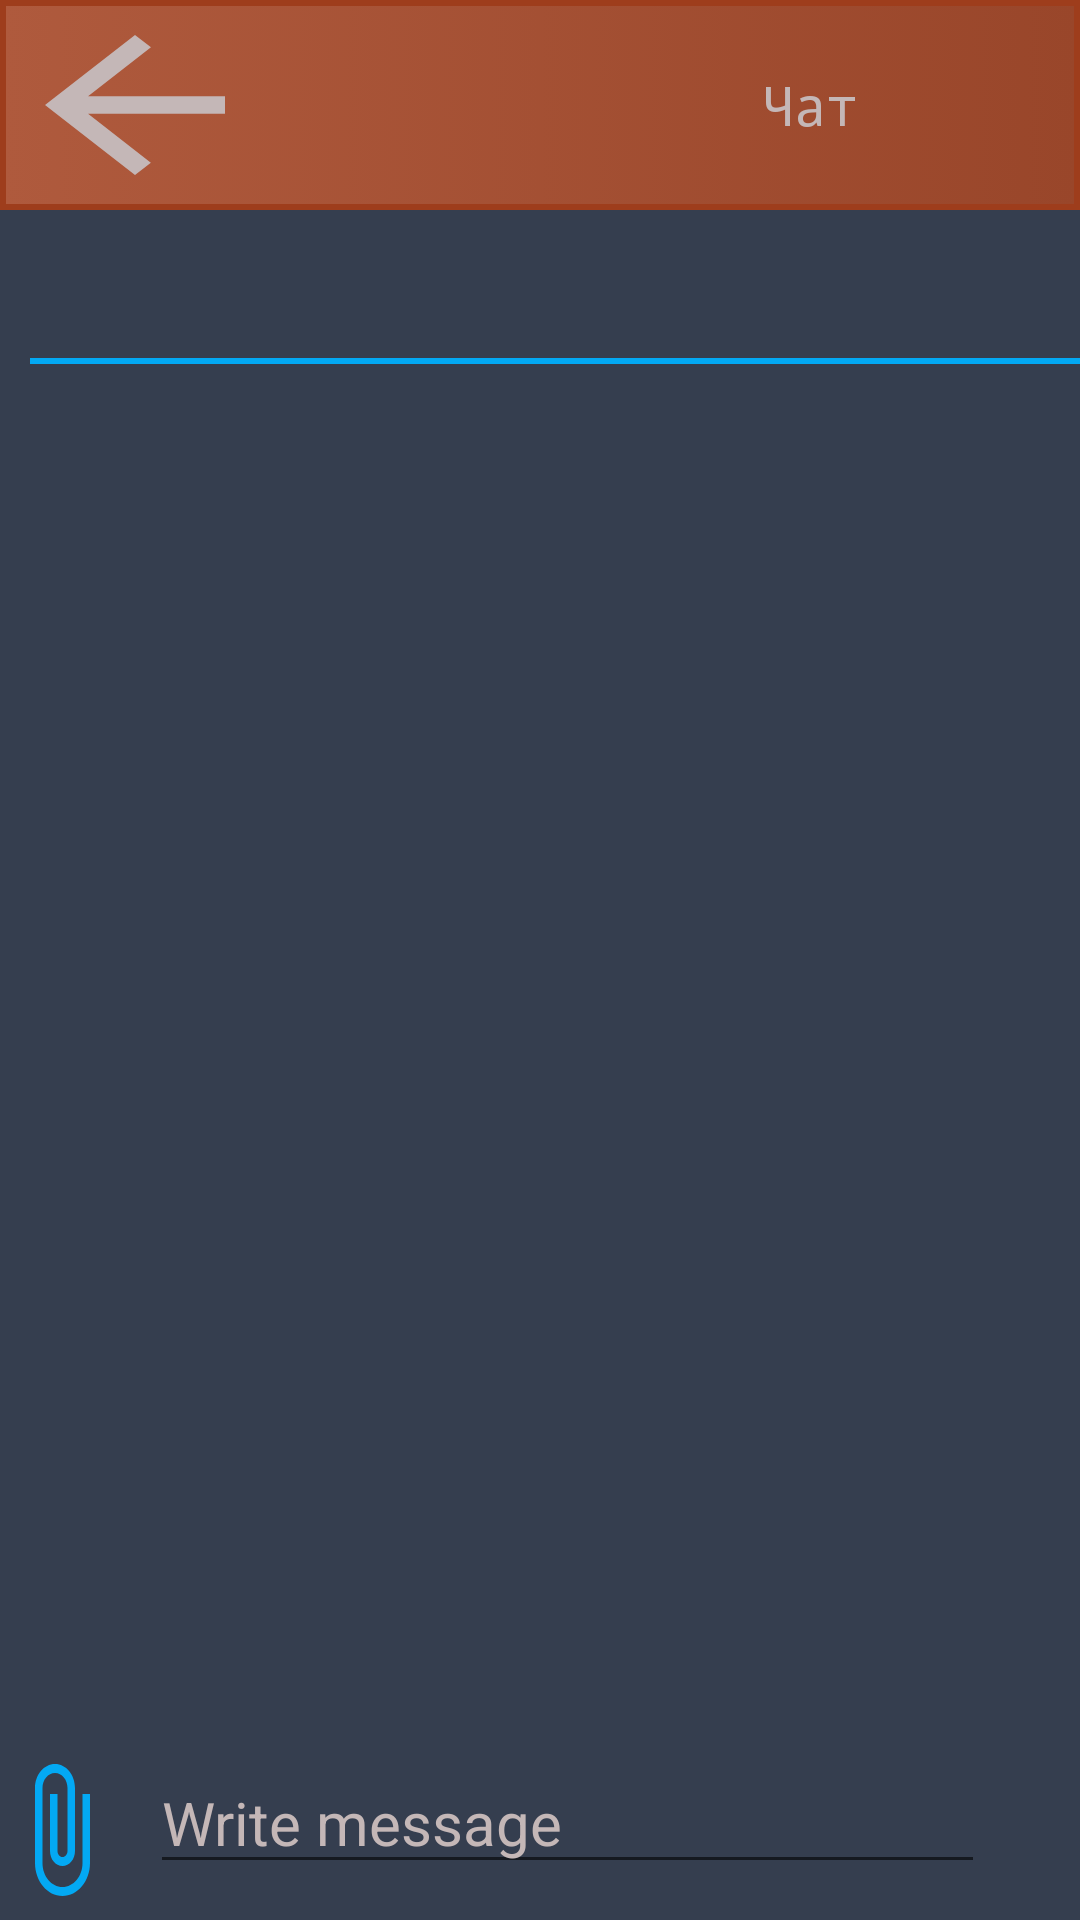

Where to tap for icons on this 1080 x 1920 app screen, as [x,y]:
arrow back: [135,105]
attach: [62,1830]
